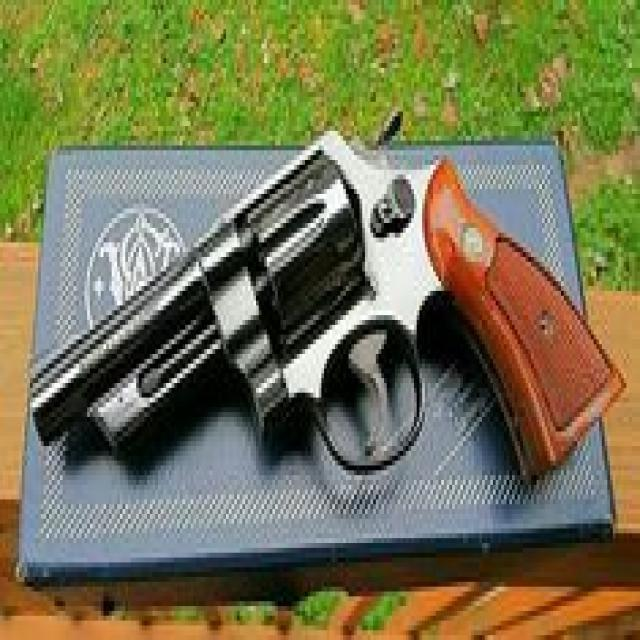revolver: (25, 57, 630, 594)
